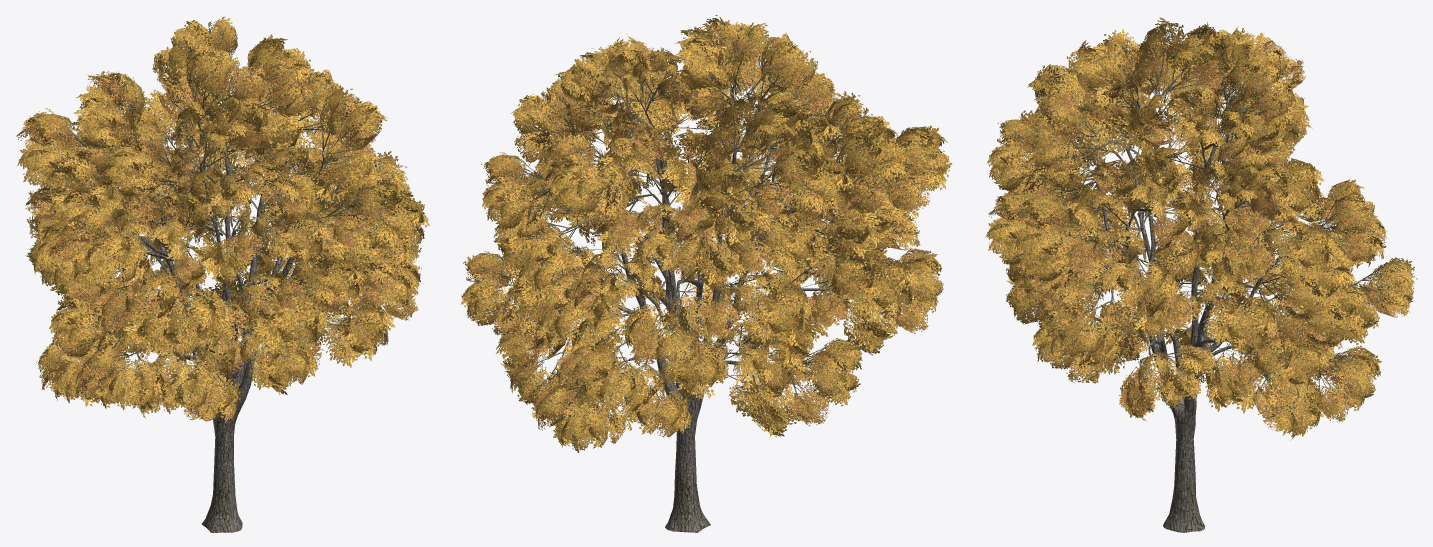
The model's file is tree.gltf.
The picture shows the model from 3 angles, left to right: view 1: azimuth 30°, elevation 25°; view 2: azimuth 150°, elevation 25°; view 3: azimuth 270°, elevation 25°; orthographic projection. The views are drawn at different scales.
Visible parts, largest first — view 1: 银杏树02; view 2: 银杏树02; view 3: 银杏树02.
Part boxes in pixels (left/top/right/bottom): 银杏树02: left=16, top=16, right=429, bottom=532; 银杏树02: left=461, top=15, right=952, bottom=532; 银杏树02: left=985, top=17, right=1417, bottom=532.
Size of the model in its own units: 7.73 by 9.42 by 7.52.
2 materials, 2 textured.
